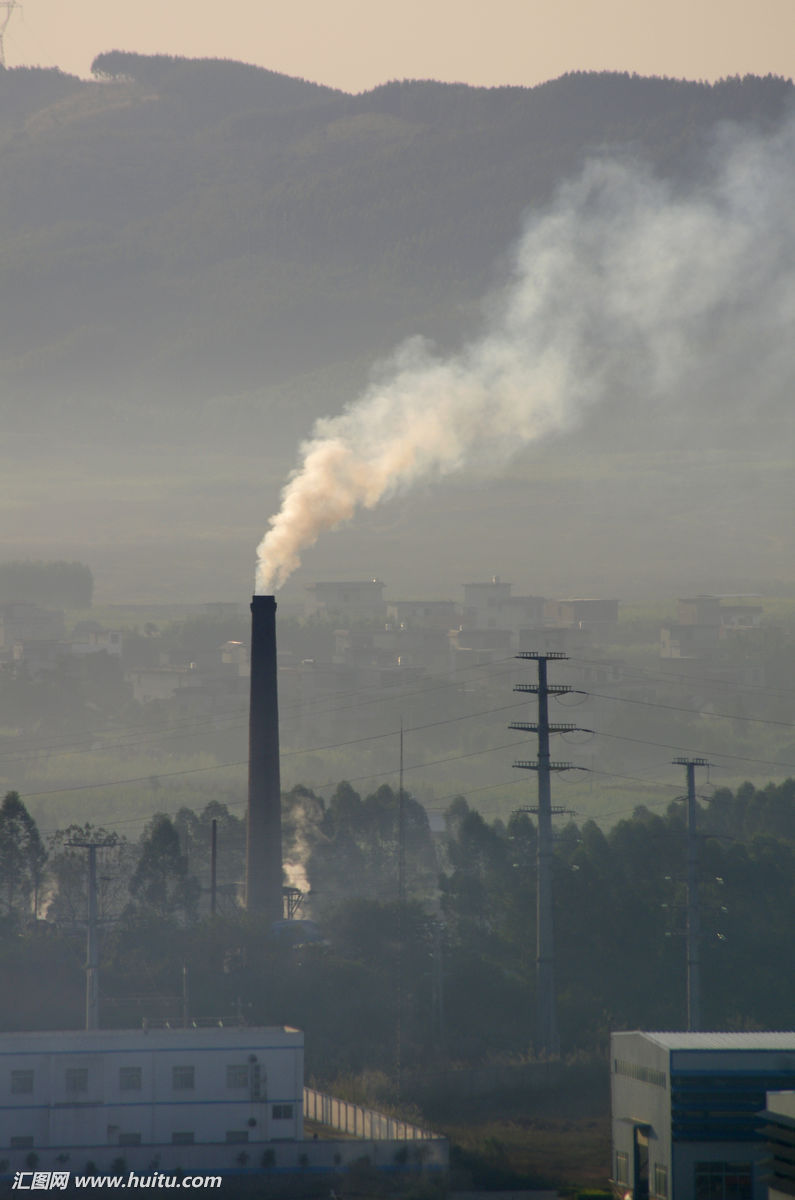dust: (244, 321, 412, 615)
